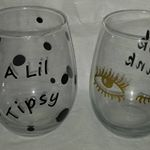cups: (1, 5, 81, 142), (87, 5, 150, 140)
